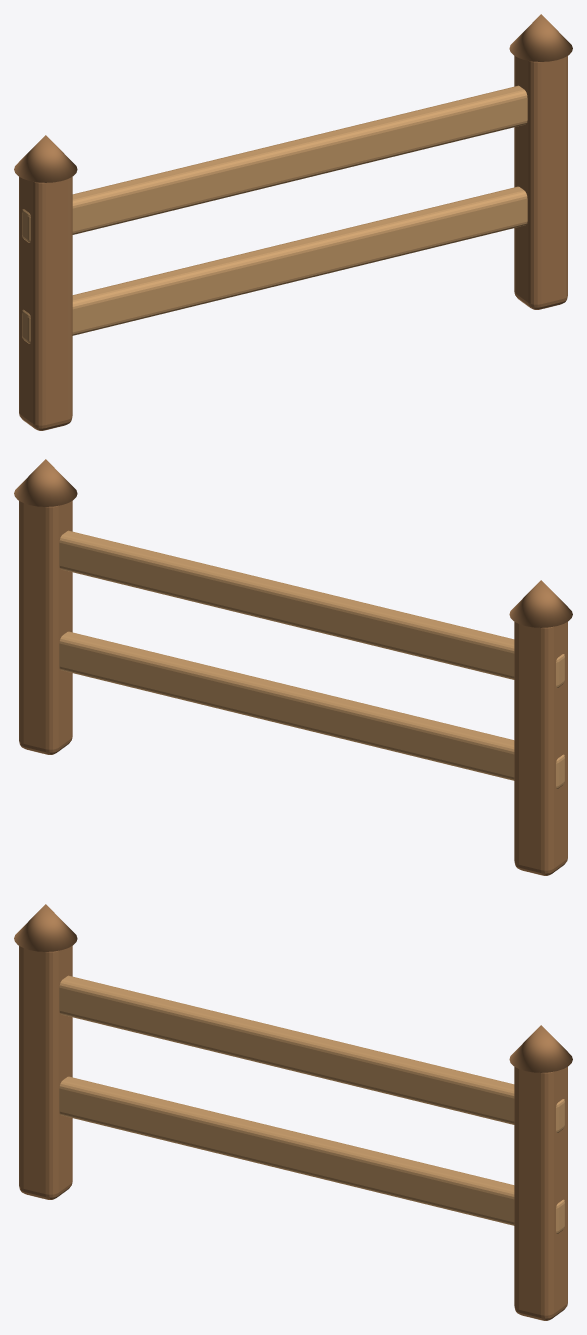
Rendered from fence.glb.
The picture shows the model from 3 angles, top to bottom: view 1: azimuth 30°, elevation 25°; view 2: azimuth 150°, elevation 25°; view 3: azimuth 330°, elevation 25°; orthographic projection.
Parts seen in each view (by area): view 1: fence; view 2: fence; view 3: fence.
Boxes of the visible parts, box(x1,y1,x2,y2) form: fence: box(14, 14, 572, 430); fence: box(14, 459, 572, 875); fence: box(14, 904, 572, 1320).
Size of the model in its own units: 2 by 1 by 0.2.
